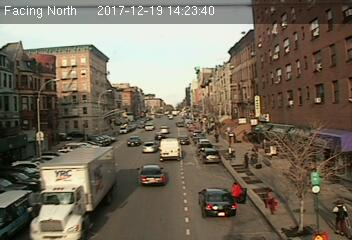car: (199, 188, 236, 217), (135, 165, 167, 185), (201, 149, 220, 163), (126, 136, 141, 147), (142, 142, 156, 153), (178, 135, 190, 145)
truck: (25, 148, 119, 238), (158, 138, 182, 161)
